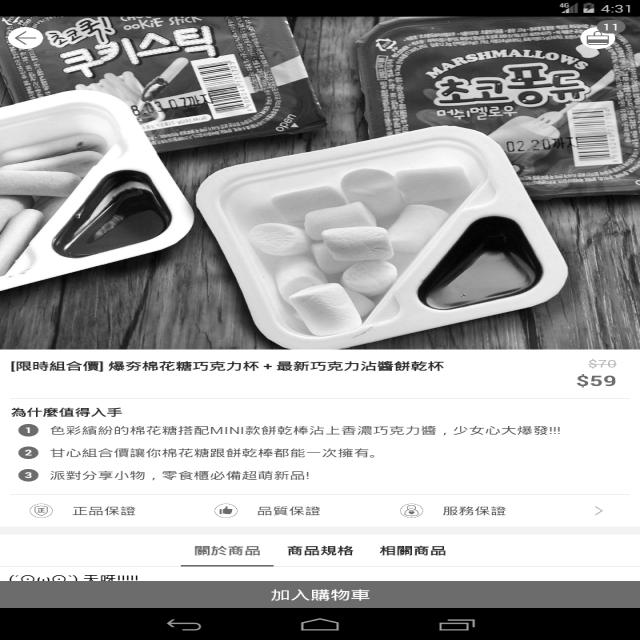Button: (2, 578, 638, 612)
ImageButton: (578, 22, 622, 49), (4, 26, 46, 48)
ImageView: (4, 50, 626, 348), (393, 502, 427, 518), (26, 500, 55, 518), (212, 500, 241, 518)
TextView: (4, 359, 451, 375), (43, 445, 390, 461), (8, 402, 126, 418), (66, 503, 146, 518), (190, 541, 264, 557), (438, 503, 511, 519), (284, 541, 356, 557), (574, 374, 626, 391)
